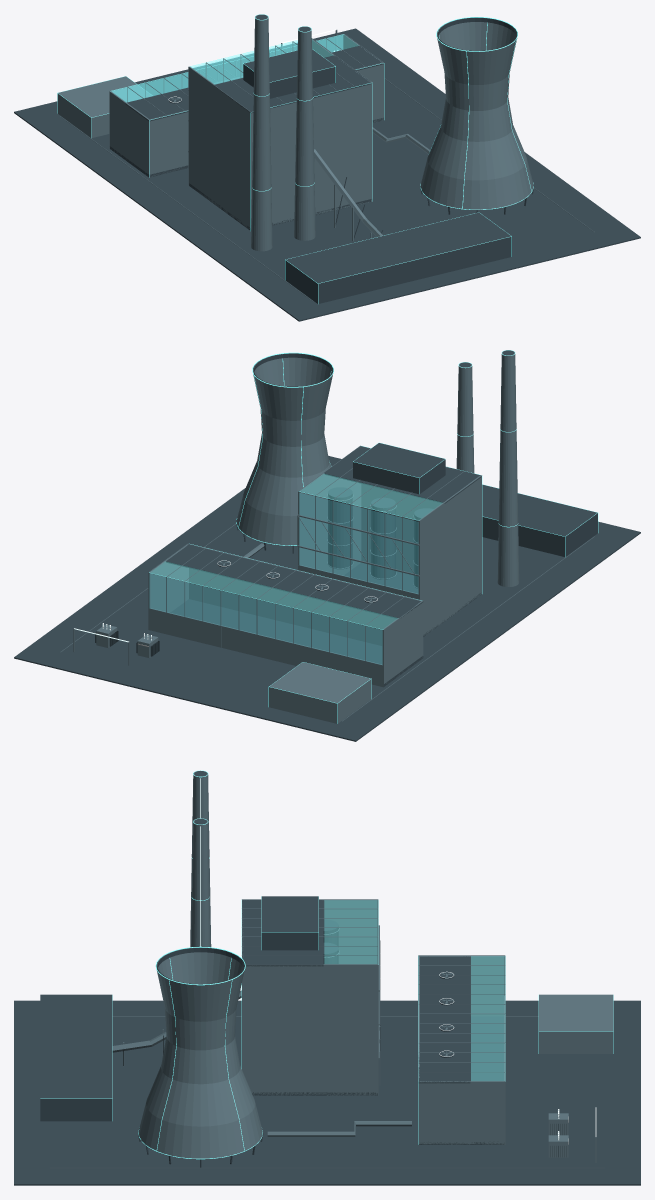
The model's file is coal_plant_retiring_site.glb.
The picture shows the model from 3 angles, top to bottom: view 1: azimuth 30°, elevation 25°; view 2: azimuth 150°, elevation 25°; view 3: azimuth 270°, elevation 25°; orthographic projection. The views are drawn at different scales.
Parts seen in each view (by area): view 1: coal_plant_retiring_site_graphite, coal_plant_retiring_site_graphite_light, coal_plant_retiring_site_glass, coal_plant_retiring_site_edge; view 2: coal_plant_retiring_site_graphite, coal_plant_retiring_site_graphite_light, coal_plant_retiring_site_glass, coal_plant_retiring_site_edge; view 3: coal_plant_retiring_site_graphite, coal_plant_retiring_site_graphite_light, coal_plant_retiring_site_glass, coal_plant_retiring_site_edge.
Boxes of the visible parts, x1,y1,x2,y2 form: coal_plant_retiring_site_graphite: (14, 14, 640, 321); coal_plant_retiring_site_graphite_light: (57, 14, 594, 301); coal_plant_retiring_site_glass: (111, 34, 358, 102); coal_plant_retiring_site_edge: (57, 14, 533, 303); coal_plant_retiring_site_graphite: (14, 350, 640, 741); coal_plant_retiring_site_graphite_light: (60, 350, 594, 723); coal_plant_retiring_site_glass: (149, 474, 442, 664); coal_plant_retiring_site_edge: (149, 350, 598, 723); coal_plant_retiring_site_graphite: (14, 771, 640, 1185); coal_plant_retiring_site_graphite_light: (50, 770, 613, 1168); coal_plant_retiring_site_glass: (324, 900, 504, 1080); coal_plant_retiring_site_edge: (40, 770, 613, 1159).
Bounding box in the file's own units: 175 × 113 × 252.
